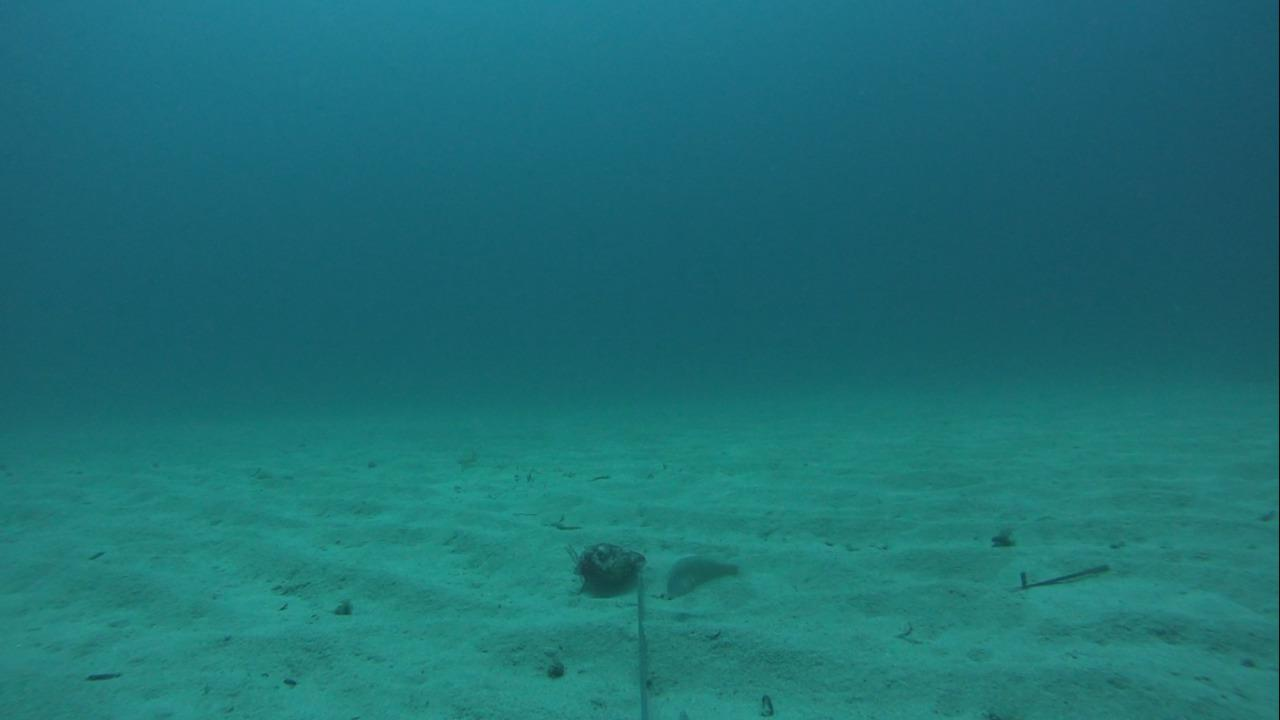raor: (659, 551, 743, 597)
